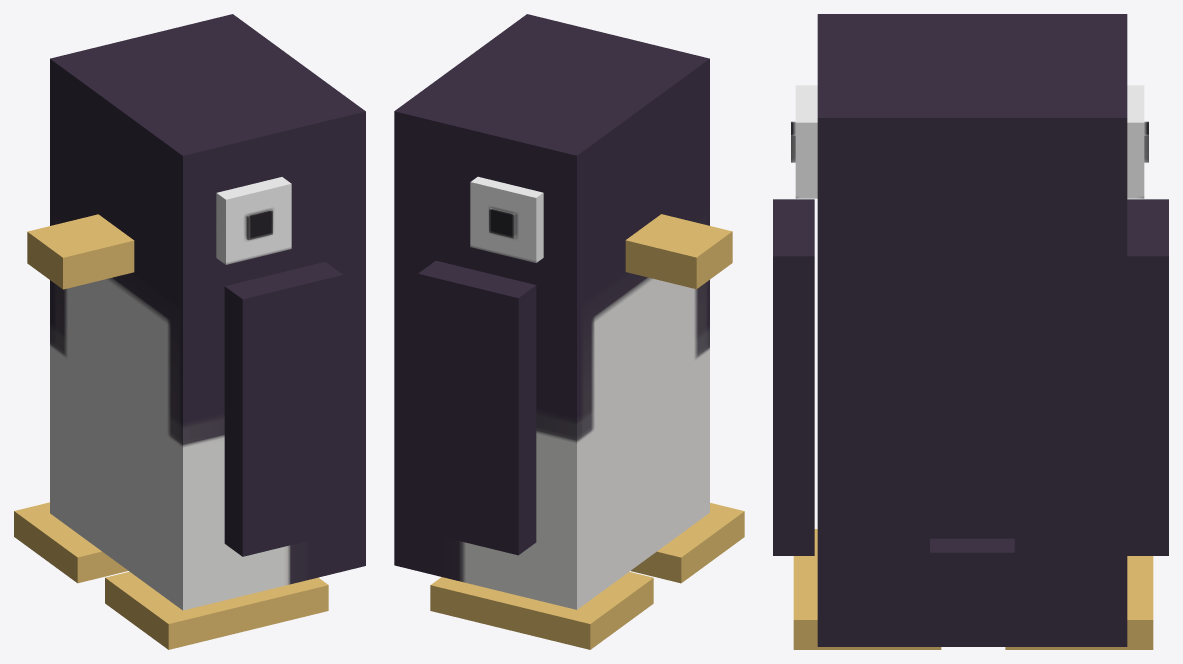
File: Penguin.FBX
The picture shows the model from 3 angles, left to right: view 1: azimuth 30°, elevation 25°; view 2: azimuth 150°, elevation 25°; view 3: azimuth 270°, elevation 25°; orthographic projection. The views are drawn at different scales.
Parts seen in each view (by area): view 1: Penguin_Body, Penguin_Arm_L, Penguin_Foot_01, Penguin_Foot_02; view 2: Penguin_Body, Penguin_Arm_R, Penguin_Foot_02, Penguin_Foot_01; view 3: Penguin_Body, Penguin_Arm_L, Penguin_Arm_R, Penguin_Foot_02, Penguin_Foot_01.
Boxes of the visible parts, left/top/right/bottom form: Penguin_Body: left=27, top=14, right=365, bottom=610; Penguin_Arm_L: left=224, top=262, right=343, bottom=556; Penguin_Foot_01: left=105, top=571, right=328, bottom=649; Penguin_Foot_02: left=14, top=502, right=128, bottom=583; Penguin_Body: left=394, top=14, right=732, bottom=609; Penguin_Arm_R: left=418, top=260, right=536, bottom=555; Penguin_Foot_02: left=430, top=571, right=653, bottom=649; Penguin_Foot_01: left=631, top=503, right=744, bottom=583; Penguin_Body: left=791, top=14, right=1148, bottom=646; Penguin_Arm_L: left=773, top=199, right=814, bottom=555; Penguin_Arm_R: left=1127, top=199, right=1168, bottom=555; Penguin_Foot_02: left=1005, top=556, right=1153, bottom=649; Penguin_Foot_01: left=793, top=529, right=941, bottom=649.
Size of the model in its own units: 16.17 by 26.6 by 17.07.
